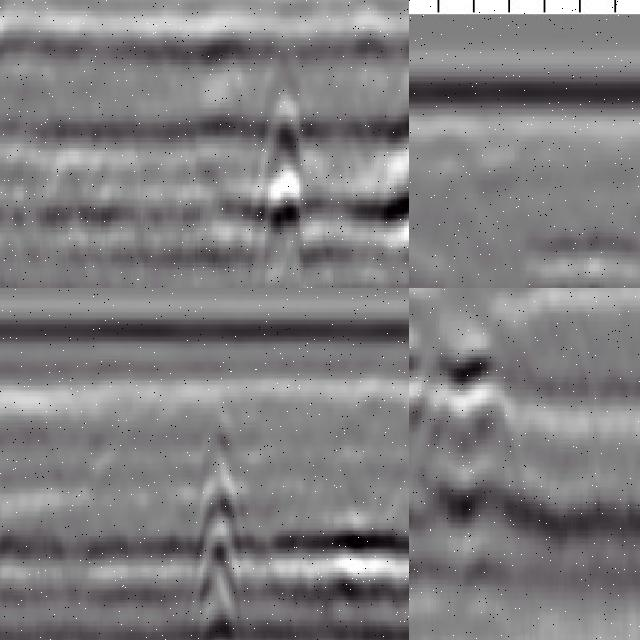crack: (191, 402, 240, 640)
loose: (227, 63, 410, 289), (410, 331, 525, 548), (514, 205, 640, 289)
